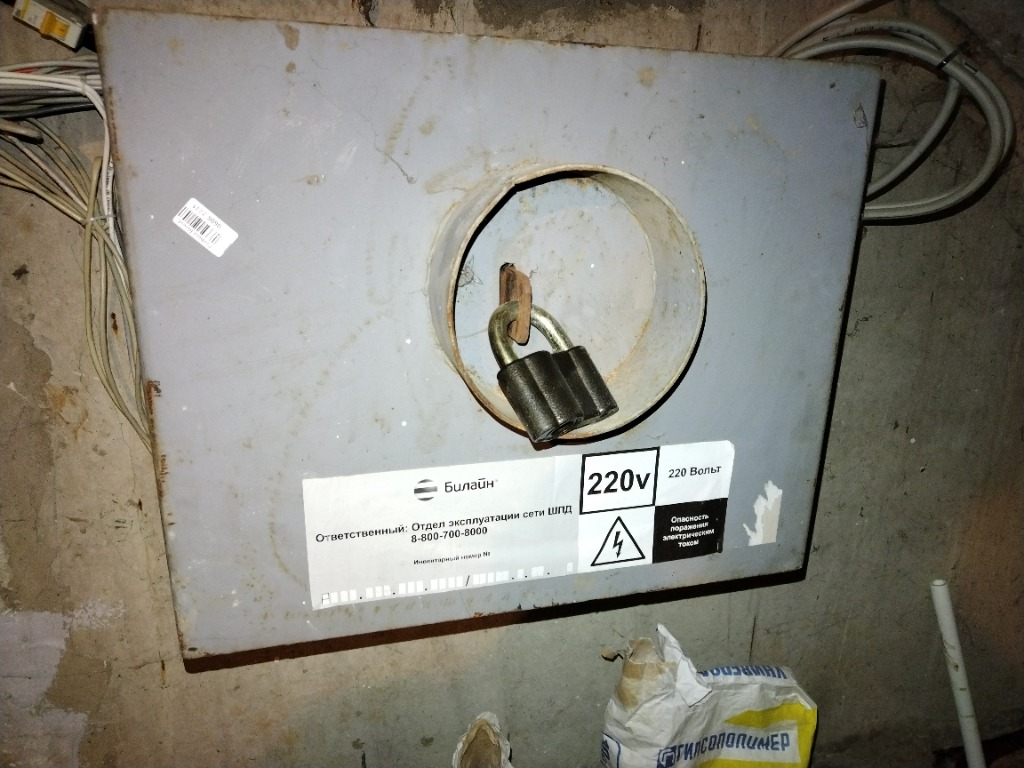shta-3: (88, 5, 887, 665)
